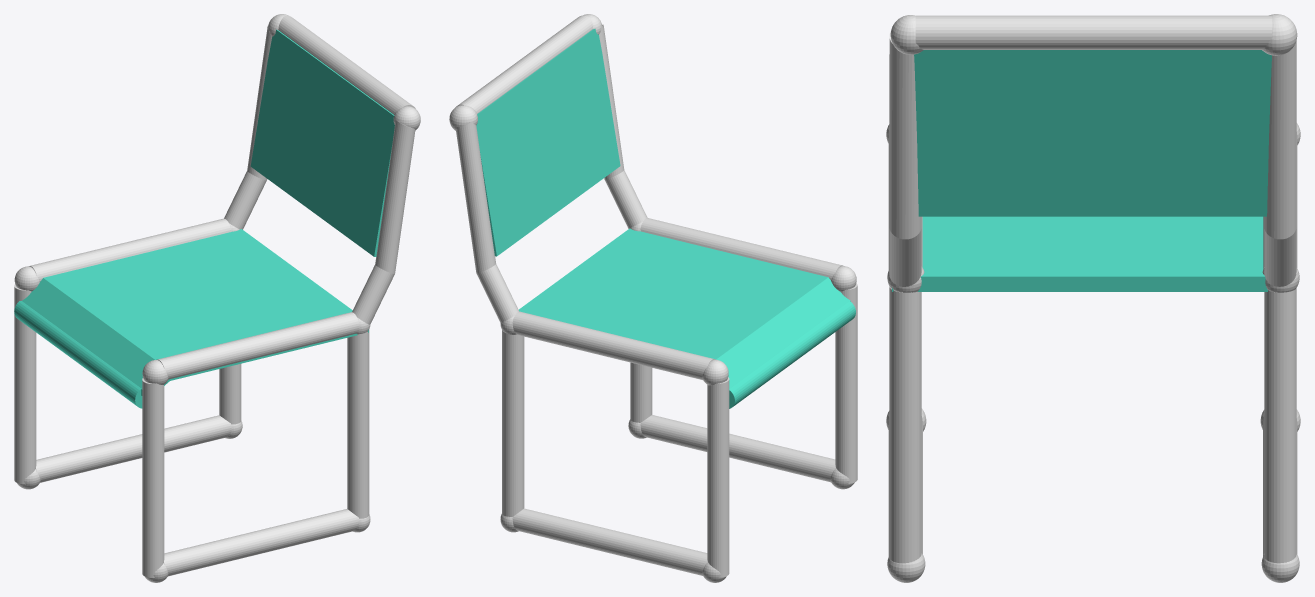
The model's file is char.fbx.
3 renders of one model, left to right at view 1: azimuth 30°, elevation 25°; view 2: azimuth 150°, elevation 25°; view 3: azimuth 270°, elevation 25°, orthographic. The views are drawn at different scales.
Visible parts, largest first — view 1: Cube; view 2: Cube; view 3: Cube.
Part boxes in pixels (x1,y1,x2,y2): Cube: (14, 14, 420, 582); Cube: (449, 14, 857, 582); Cube: (886, 14, 1300, 582).
Bounding box in the file's own units: 738 × 1031 × 641.
